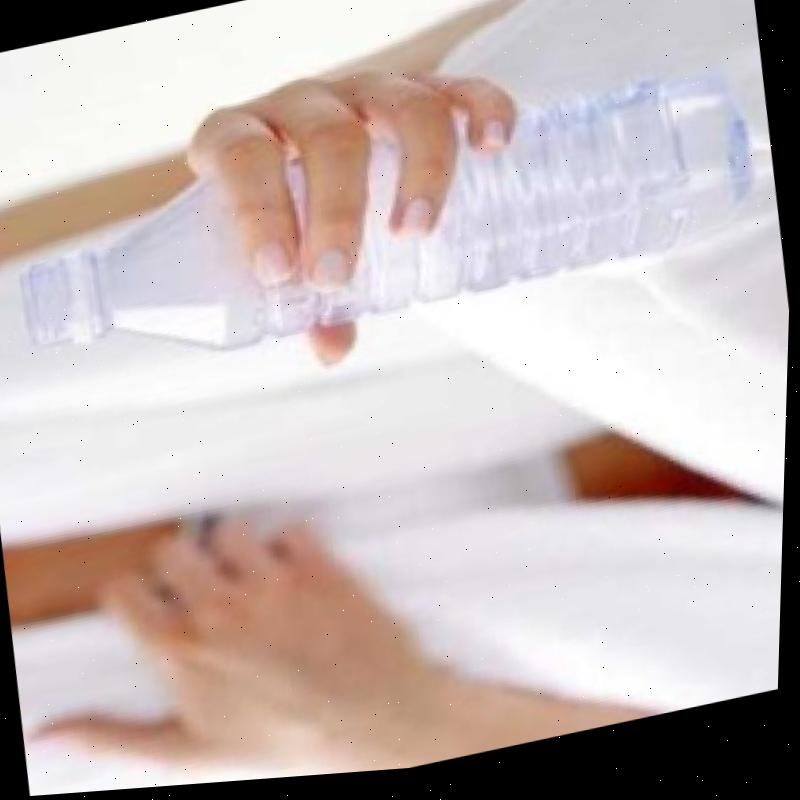botella: (7, 65, 768, 394)
